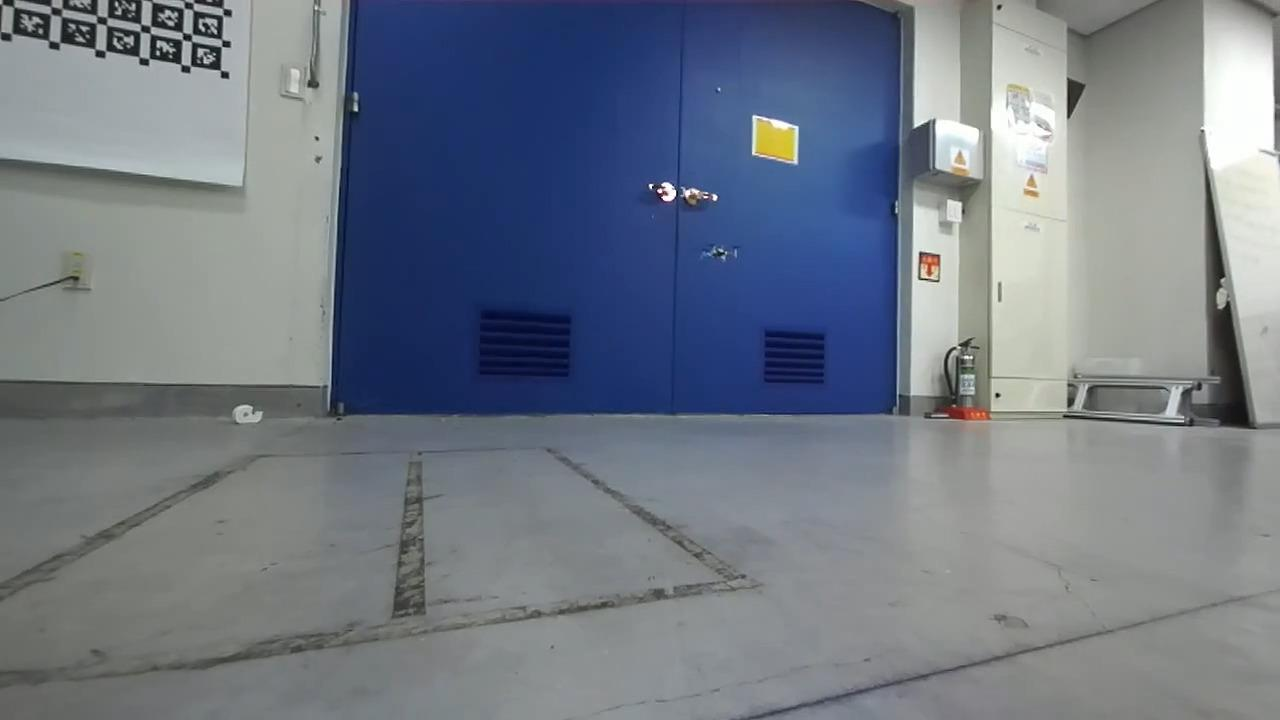crazyflie: (693, 237, 748, 267)
